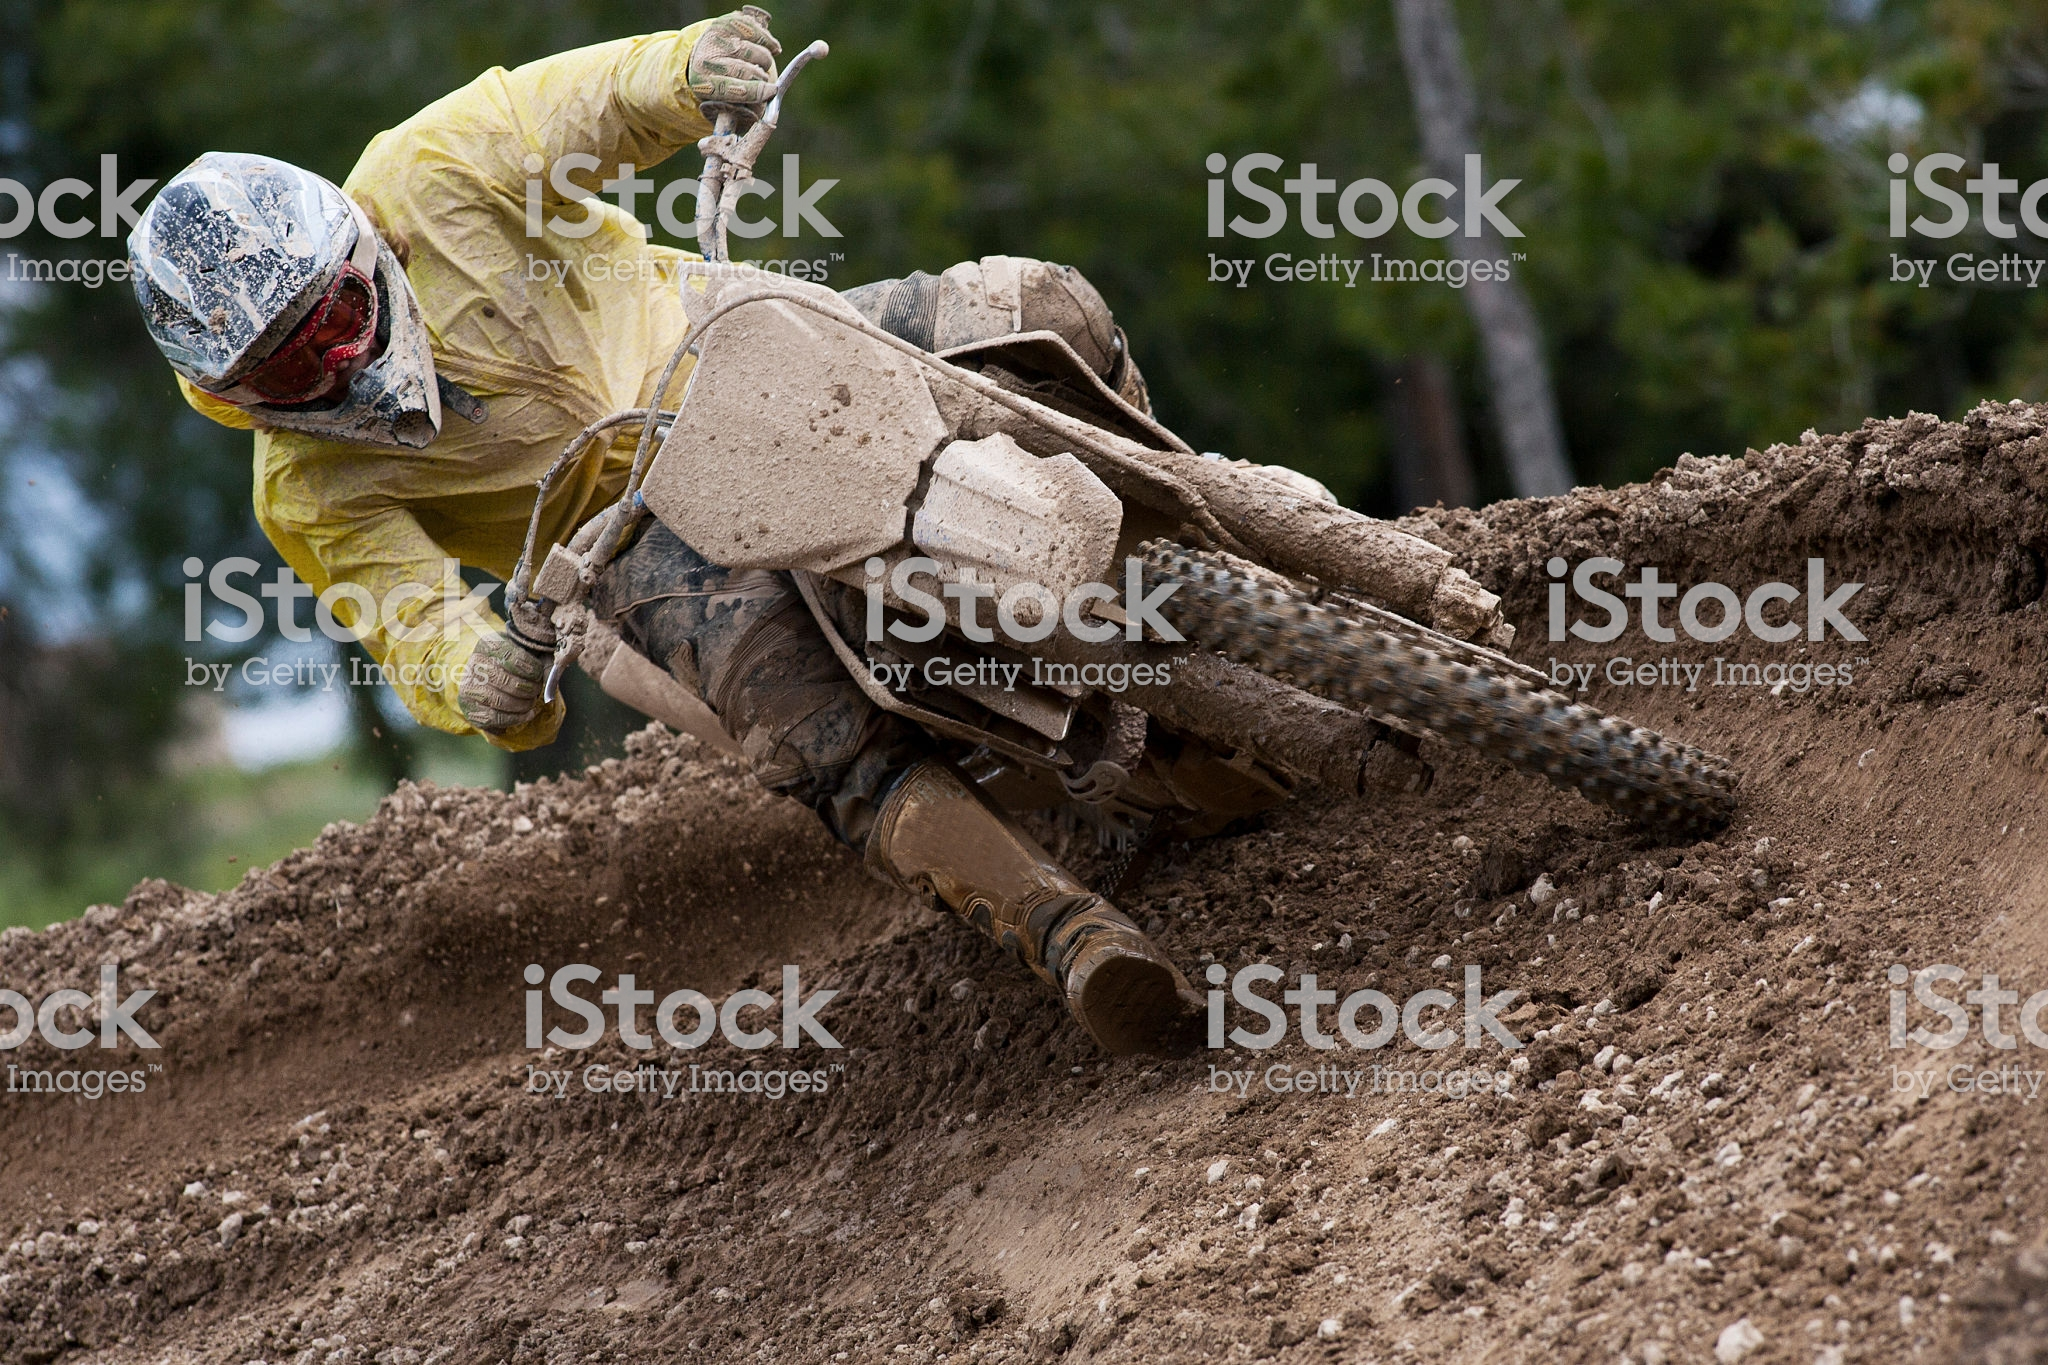helmet: (110, 183, 439, 431)
